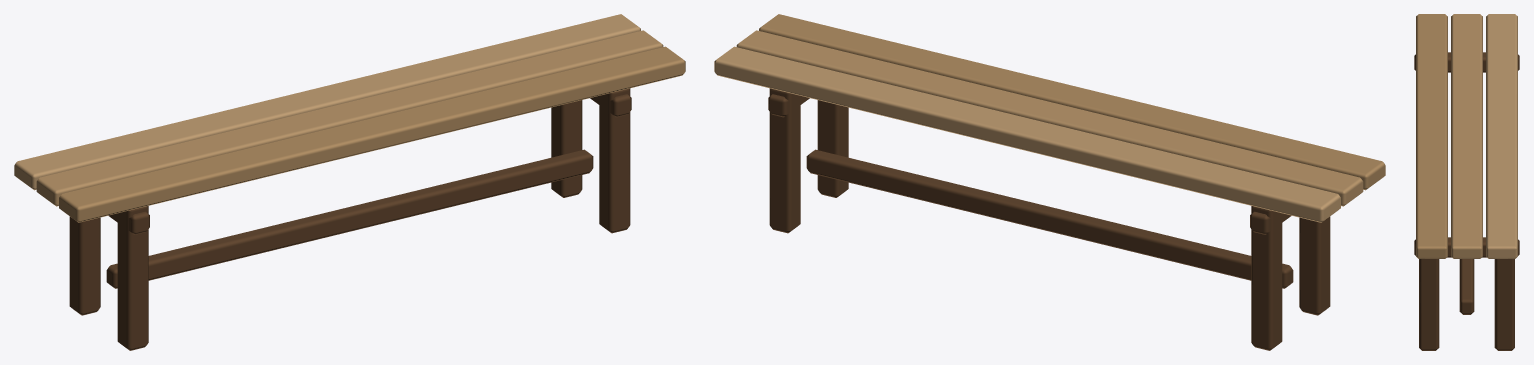
The model's file is Bench.glb.
3 views of the same model, side by side, from view 1: azimuth 30°, elevation 25°; view 2: azimuth 150°, elevation 25°; view 3: azimuth 270°, elevation 25° (orthographic). The views are drawn at different scales.
Parts seen in each view (by area): view 1: Bench.001; view 2: Bench.001; view 3: Bench.001.
Part boxes in pixels (x1,y1,x2,y2): Bench.001: (14, 14, 685, 350); Bench.001: (714, 14, 1385, 350); Bench.001: (1414, 14, 1519, 350).
Bounding box in the file's own units: 1.9 × 0.475 × 0.36.
